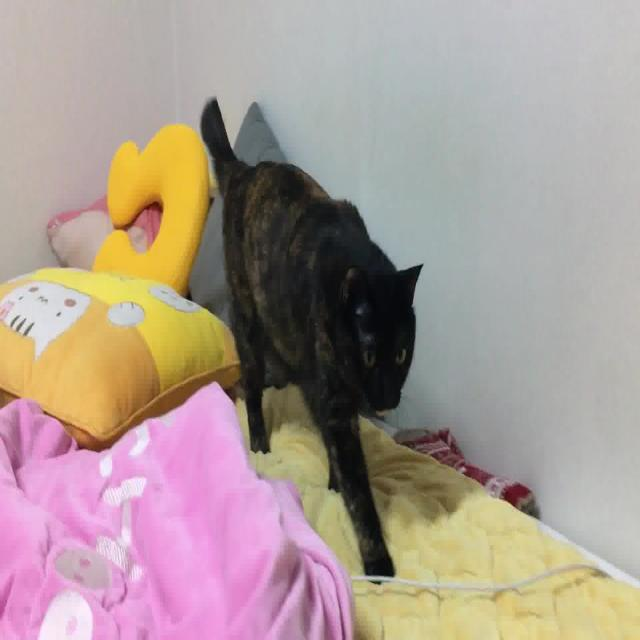cat: (199, 81, 425, 600)
